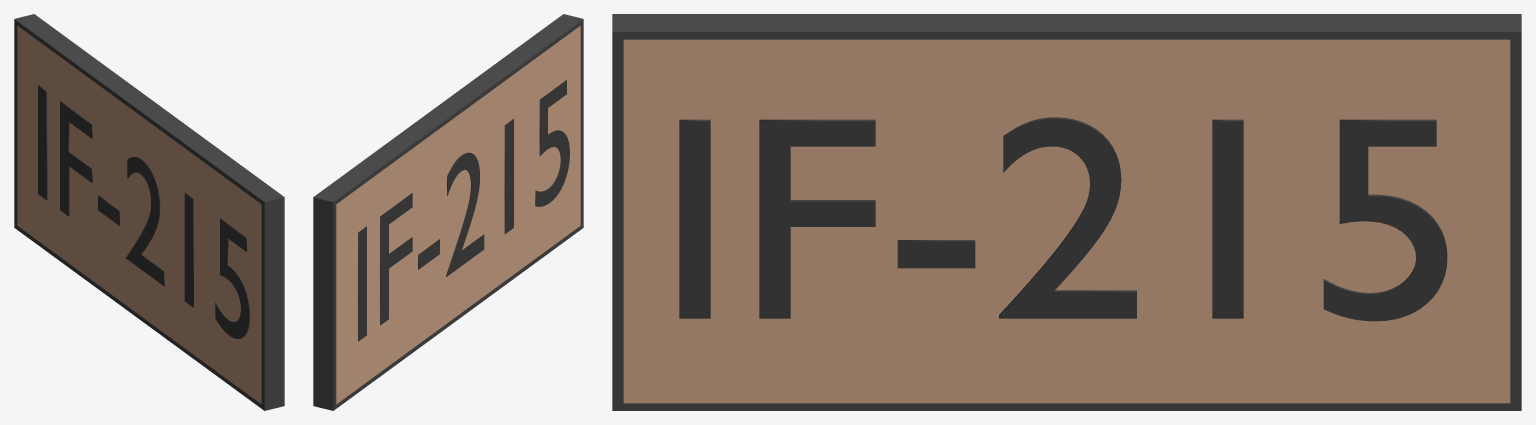
3 views of the same model, side by side, from view 1: azimuth 30°, elevation 25°; view 2: azimuth 150°, elevation 25°; view 3: azimuth 270°, elevation 25° (orthographic). The views are drawn at different scales.
Visible parts, largest first — view 1: Cube, Text.001; view 2: Cube, Text.001; view 3: Cube, Text.
Boxes of the visible parts, left/top/right/bottom form: Cube: left=14, top=14, right=284, bottom=410; Text.001: left=38, top=85, right=249, bottom=338; Cube: left=313, top=14, right=583, bottom=410; Text.001: left=358, top=80, right=569, bottom=341; Cube: left=612, top=14, right=1521, bottom=410; Text: left=679, top=117, right=1447, bottom=321.
Bounding box in the file's own units: 11.55 × 102 × 222.
